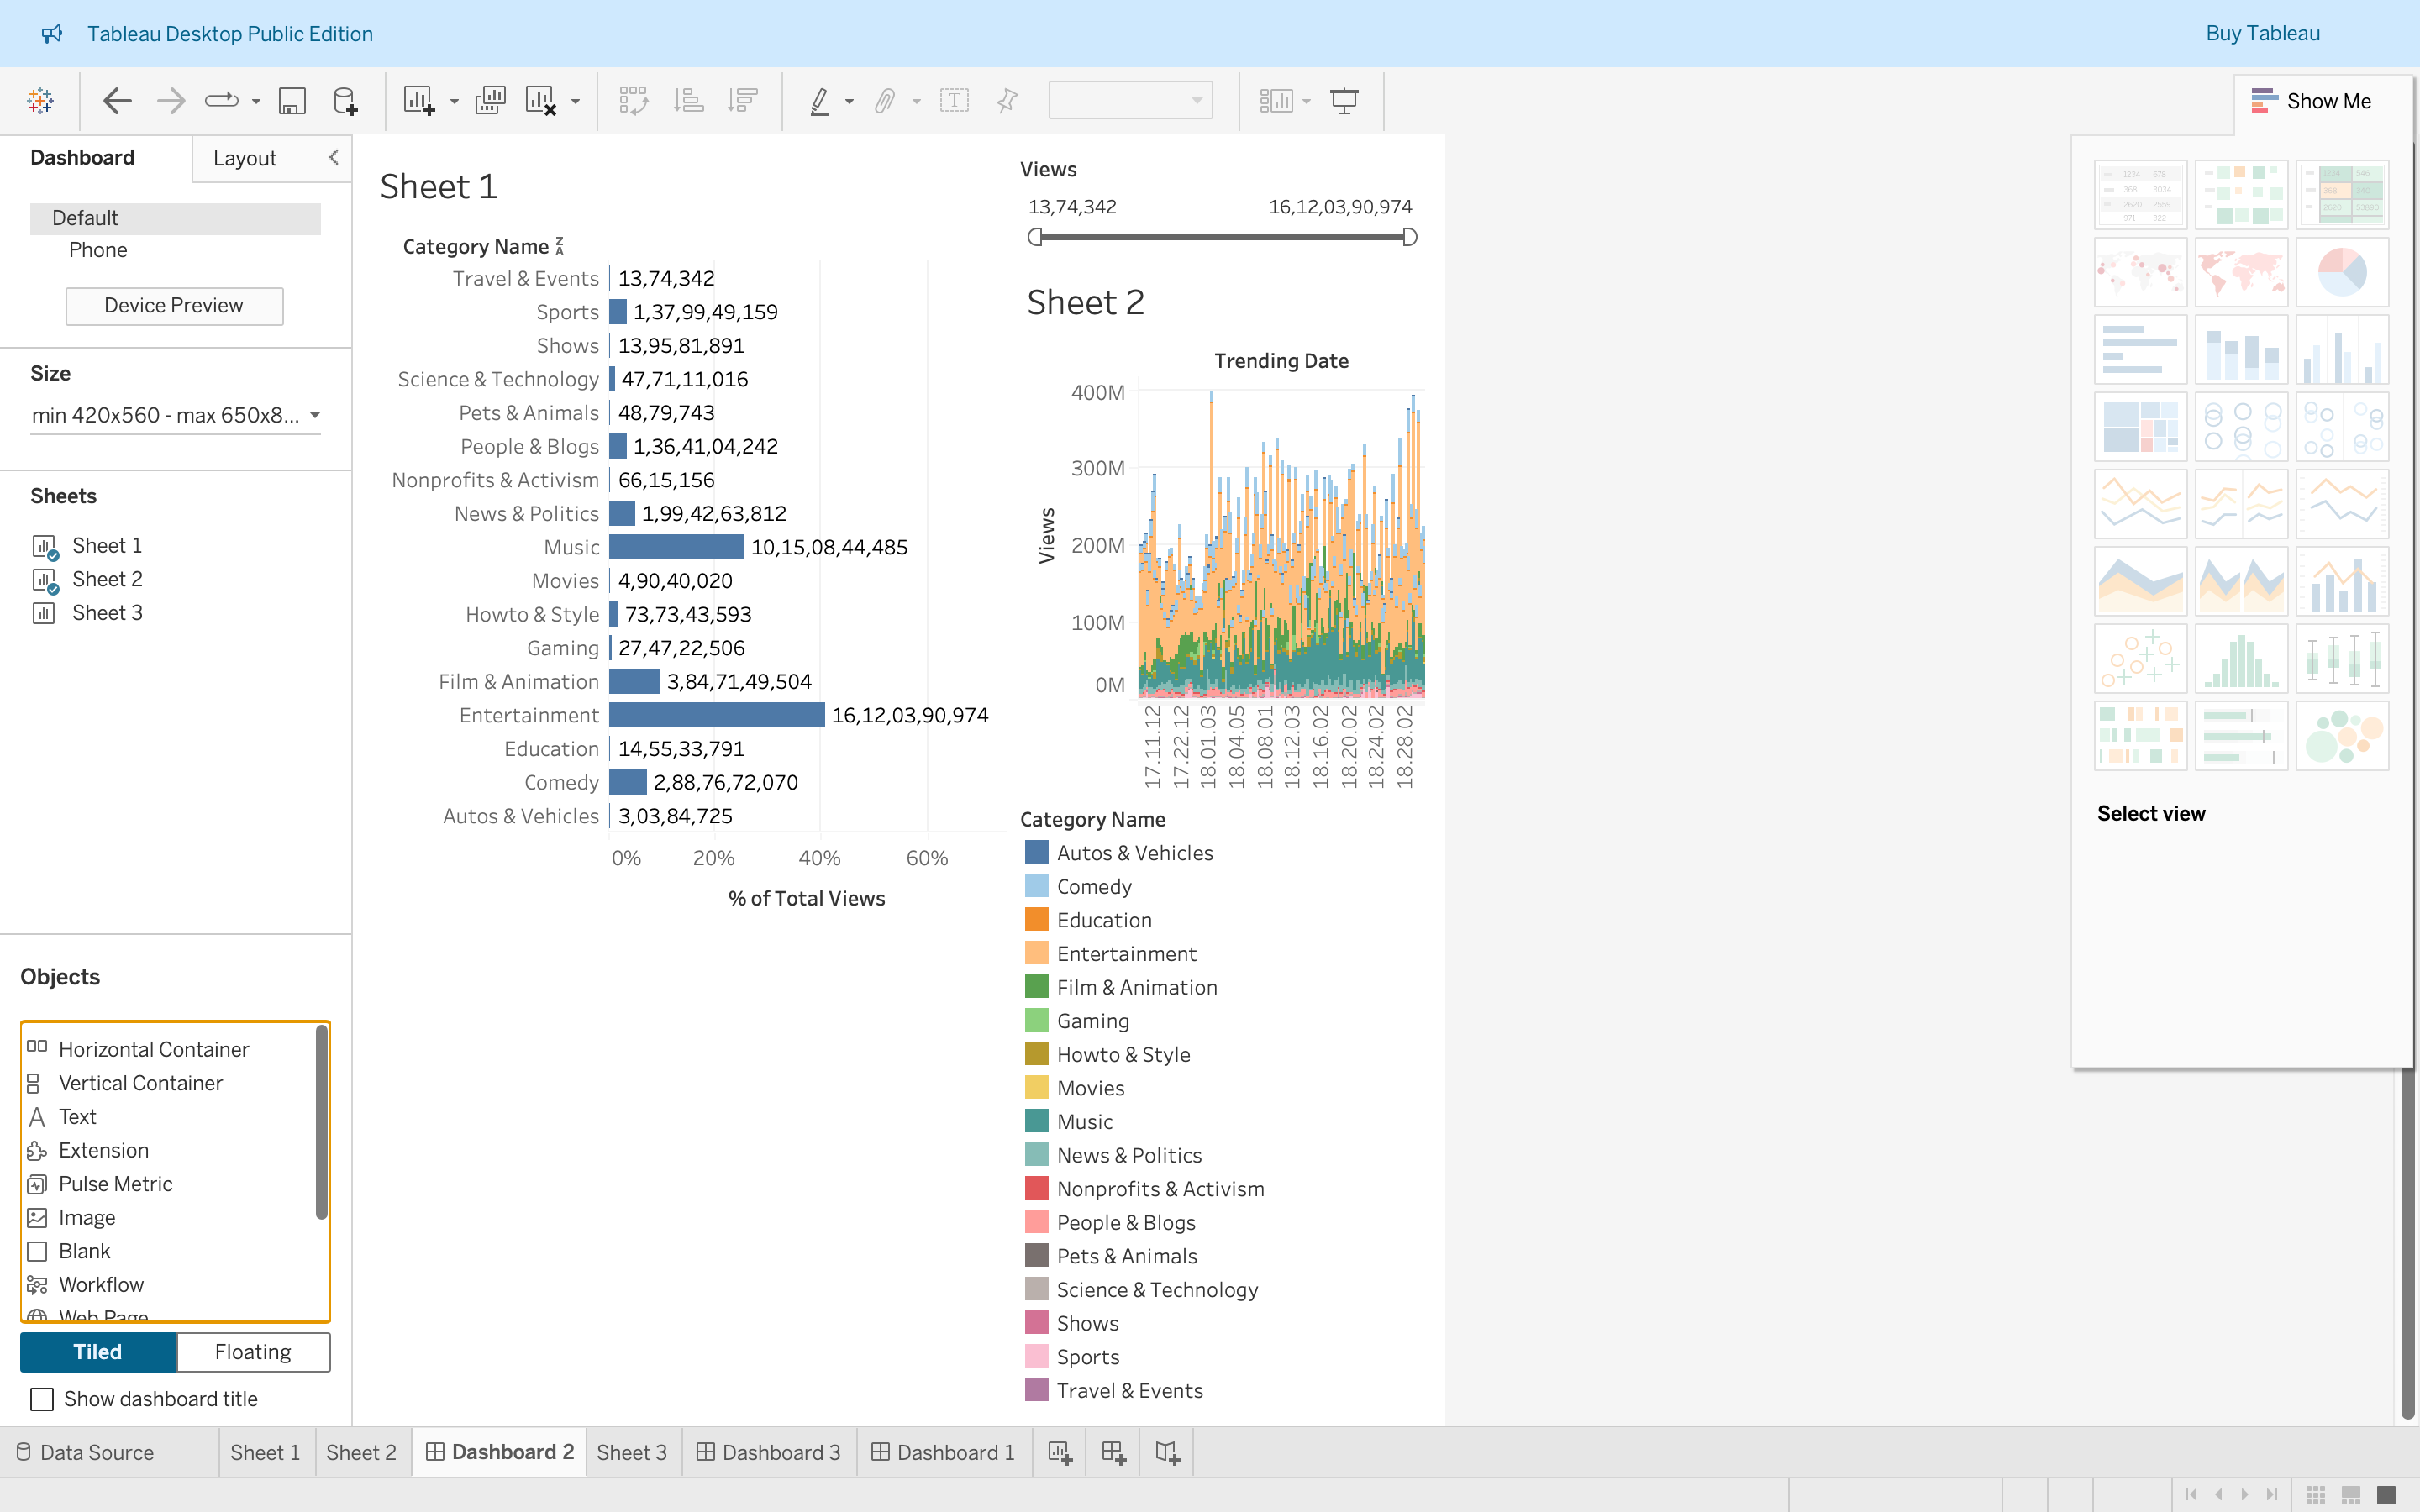

The dashboard page shown, as its layout file describes it:
{"tool":"tableau","page":{"name":"Dashboard 2","canvas":[650,860],"ordinal":1},"visuals":[{"type":"worksheet","title":"Sheet 1","mark":"Automatic","rows":["Calculation_3737424807312752640"],"cols":["views"],"box":[8,10.5,474,839]},{"type":"filter","title":"Sheet 1","param":"[federated.0qo58f919a78ac176hxxe0yr6yr9].[sum:views:qk]","box":[482,10.5,160,90.5]},{"type":"worksheet","title":"Sheet 2","mark":"Automatic","rows":["views"],"cols":["trending_date"],"box":[482,101,160,268.7]},{"type":"legend","title":"Sheet 2","param":"[federated.0qo58f919a78ac176hxxe0yr6yr9].[none:Calculation_3737424807312752640:n","box":[482,369.7,160,479.8]}]}

Visuals, with their boxes on the page's 650x860 design canvas (x1, y1, x2, y2). These are canvas units, not pixel positions in the 2420x1512 screenshot, which may show the page scaled, cropped or inside an application window:
"Sheet 1" worksheet: <box>8,10,482,850</box>
"Sheet 1" filter: <box>482,10,642,101</box>
"Sheet 2" worksheet: <box>482,101,642,370</box>
"Sheet 2" legend: <box>482,370,642,850</box>
